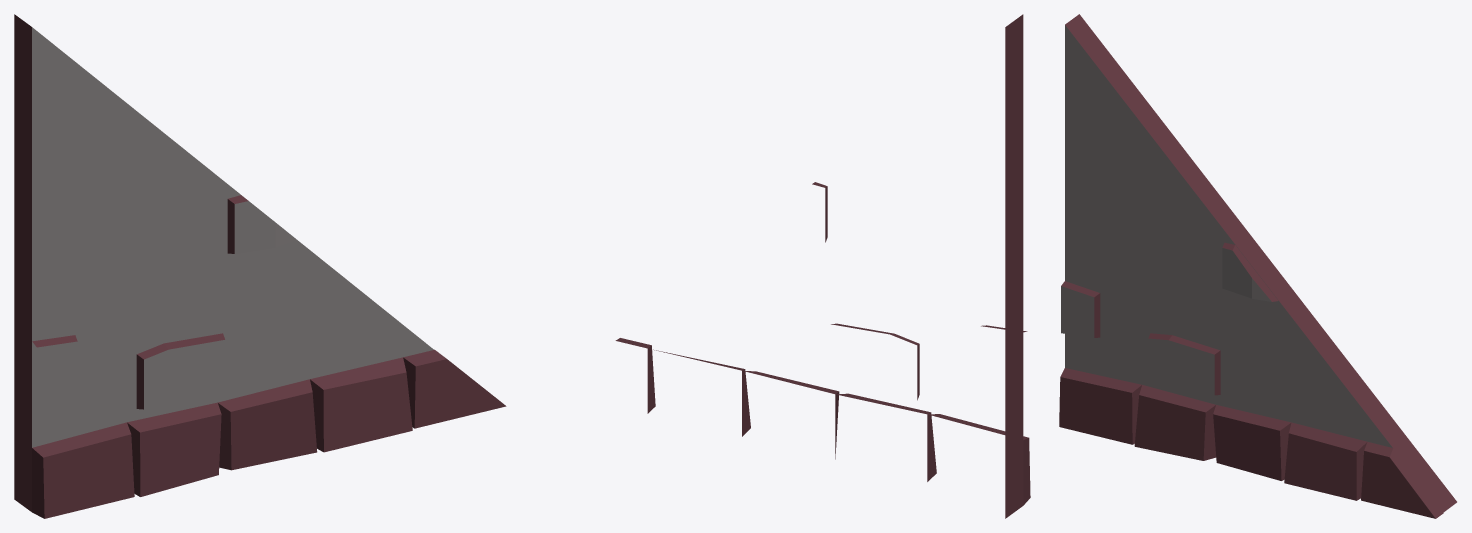
File: buildings-wall-stone-end-r-3x3m-b.glb
3 views of the same model, side by side, from view 1: azimuth 30°, elevation 25°; view 2: azimuth 150°, elevation 25°; view 3: azimuth 330°, elevation 25° (orthographic). The views are drawn at different scales.
Visible parts, largest first — view 1: wall-stone-end-r-3x3m-b; view 2: wall-stone-end-r-3x3m-b; view 3: wall-stone-end-r-3x3m-b.
Part boxes in pixels (x1=…): wall-stone-end-r-3x3m-b: x1=14, y1=14, x2=506, y2=518; wall-stone-end-r-3x3m-b: x1=615, y1=14, x2=1030, y2=518; wall-stone-end-r-3x3m-b: x1=1059, y1=14, x2=1456, y2=518.
Bounding box in the file's own units: 3.01 × 3 × 0.3284.
